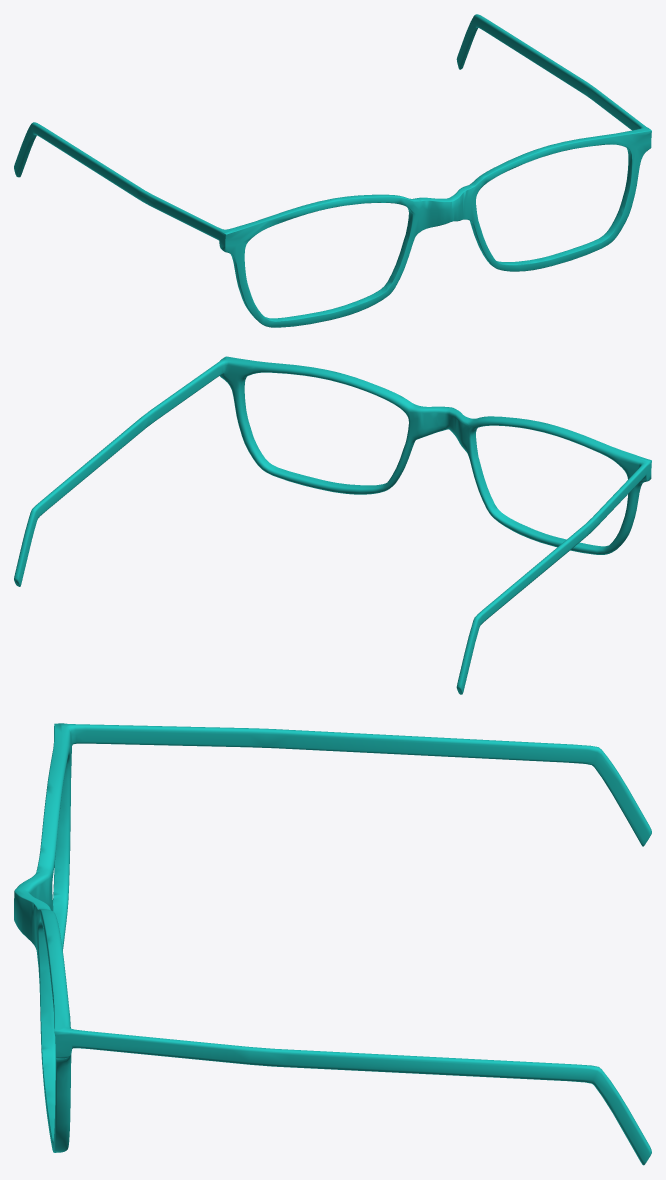
Rendered from eyewear-glasses-blue-ace6a307.glb.
3 renders of one model, top to bottom at view 1: azimuth 30°, elevation 25°; view 2: azimuth 150°, elevation 25°; view 3: azimuth 270°, elevation 25°, orthographic. The views are drawn at different scales.
Parts seen in each view (by area): view 1: glasses_blue.001; view 2: glasses_blue.001; view 3: glasses_blue.001.
Boxes of the visible parts, box(x1,y1,x2,y2) form: glasses_blue.001: box(14, 14, 651, 327); glasses_blue.001: box(14, 356, 651, 694); glasses_blue.001: box(14, 723, 651, 1165).
Bounding box in the file's own units: 1.71 × 0.4312 × 1.42.
